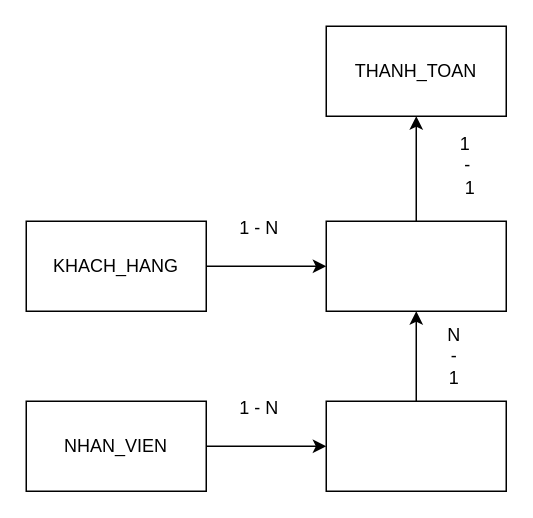
Image size: 533x518. Some labels were removed from this diagram. The shapes that lost their labels are listed below. From the top down, each one's centre as x and y in pixels, then its label:
point (415, 265): DAT_TOUR
point (415, 445): TOUR
